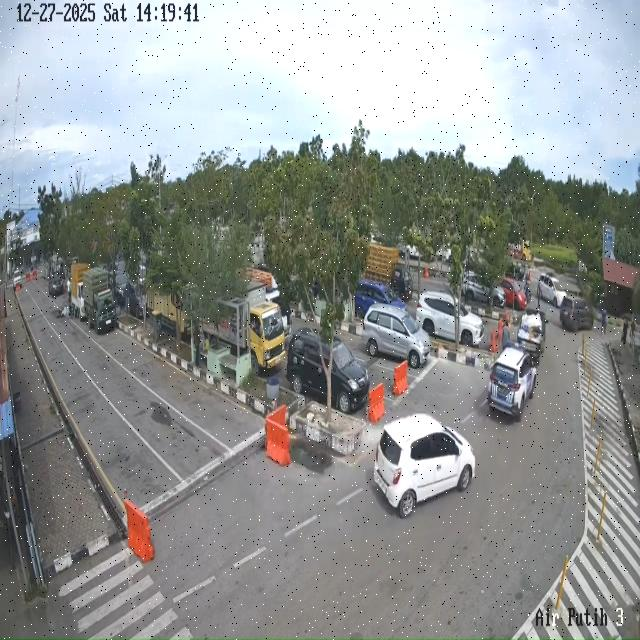Golongan IVA: (373, 414, 476, 518), (286, 328, 370, 413), (362, 304, 430, 369), (487, 344, 537, 422), (416, 291, 484, 347), (354, 279, 406, 320), (462, 271, 506, 307), (559, 296, 594, 331), (538, 274, 567, 308), (500, 276, 527, 310), (48, 272, 65, 297)
Golongan IVB: (83, 267, 117, 334), (517, 309, 548, 365), (69, 262, 90, 321)
Golongan VB: (201, 281, 286, 374)
